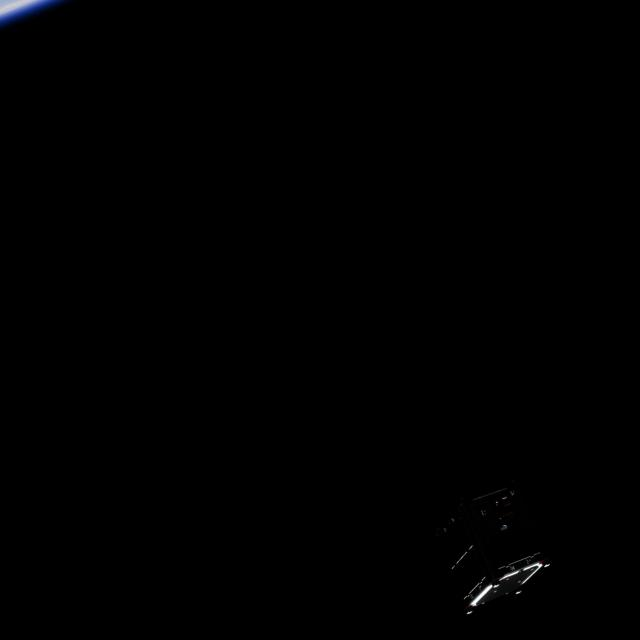medium_debris: (436, 486, 557, 612)
